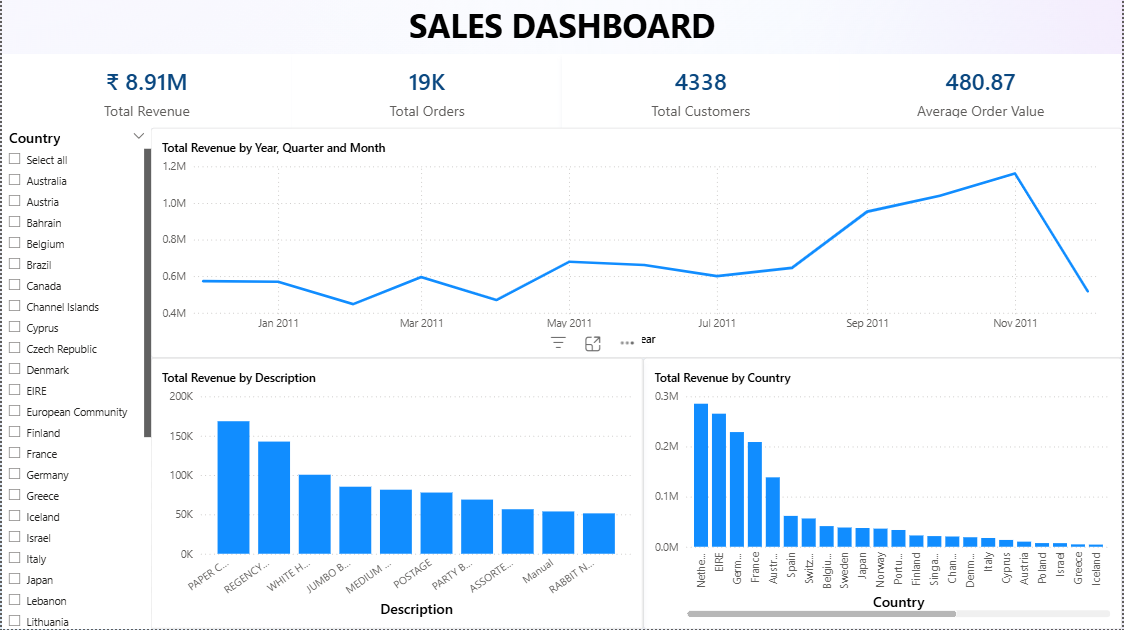

This screenshot's page, from the dashboard's own definition file:
{"tool":"powerbi","page":{"name":"Sales Dashboard","canvas":[1280,720],"ordinal":0},"visuals":[{"type":"card","fields":{"Values":["Online Retail.Total Revenue"]},"box":[0,62.7,331.3,84.7],"z":0},{"type":"card","fields":{"Values":["Online Retail.Total Orders"]},"box":[331.3,62.7,308.7,84.7],"z":1000},{"type":"card","fields":{"Values":["Online Retail.Total Customers"]},"box":[640,62.7,317.3,84.7],"z":2000},{"type":"card","fields":{"Values":["Online Retail.Average Order Value"]},"box":[957.3,62.7,322.7,84.7],"z":3000},{"type":"lineChart","fields":{"Y":["Online Retail.Total Revenue"],"Category":["Online Retail.InvoiceDate.Variation.Date Hierarchy.Year","Online Retail.InvoiceDate.Variation.Date Hierarchy.Quarter","Online Retail.InvoiceDate.Variation.Date Hierarchy.Month"]},"box":[170,147.1,1110,262.9],"z":4000},{"type":"clusteredColumnChart","fields":{"Category":["Online Retail.Country"],"Y":["Online Retail.Total Revenue"]},"box":[732.9,410,547.1,310],"z":5000},{"type":"columnChart","fields":{"Category":["Online Retail.Description"],"Y":["Online Retail.Total Revenue"]},"box":[170,410,562.9,310],"z":6000},{"type":"slicer","fields":{"Values":["Online Retail.Country"]},"box":[0,147.1,170,572.9],"z":7000},{"type":"textbox","box":[0,0,1280,62.9],"z":8000}]}

Visuals, with their boxes in screenshot pixels (x1, y1, x2, y2), scaled from the page's 1280x720 canvas onto the 1124x630 screenshot:
card - Online Retail.Total Revenue: 0, 55, 291, 129
card - Online Retail.Total Orders: 291, 55, 562, 129
card - Online Retail.Total Customers: 562, 55, 841, 129
card - Online Retail.Average Order Value: 841, 55, 1123, 129
lineChart - Online Retail.Total Revenue x Online Retail.InvoiceDate.Variation.Date Hierarchy.Year: 149, 129, 1123, 359
clusteredColumnChart - Online Retail.Country x Online Retail.Total Revenue: 644, 359, 1123, 629
columnChart - Online Retail.Description x Online Retail.Total Revenue: 149, 359, 644, 629
slicer - Online Retail.Country: 0, 129, 149, 629
textbox: 0, 0, 1123, 55
